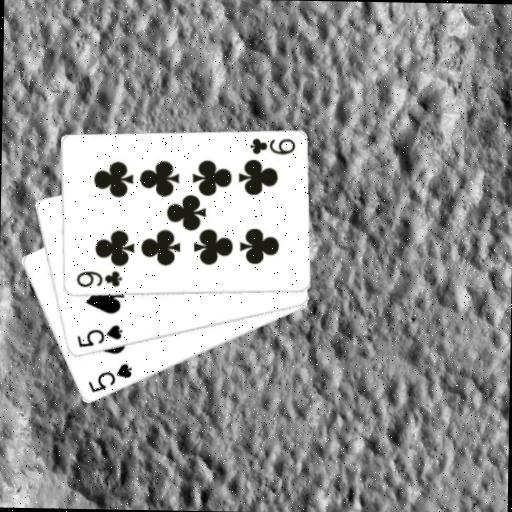5S: (85, 360, 135, 396), (73, 322, 124, 351)
9C: (73, 267, 124, 290), (246, 135, 297, 157)
